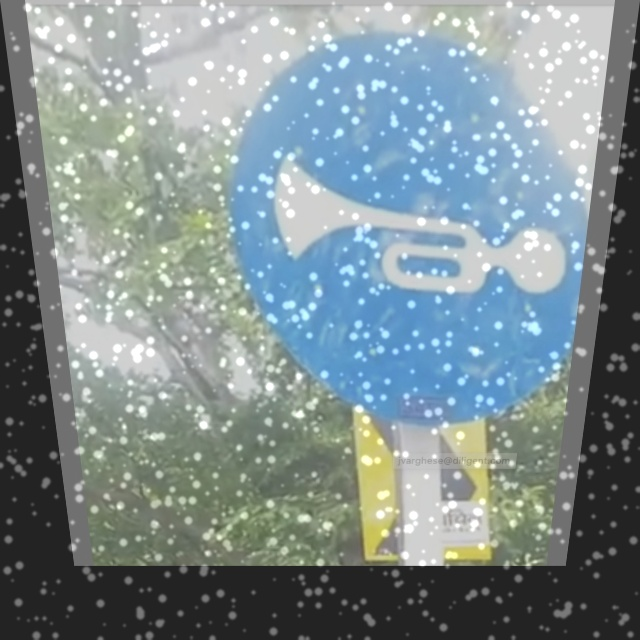Compulsory_Sound_Horn: (237, 82, 594, 385)
